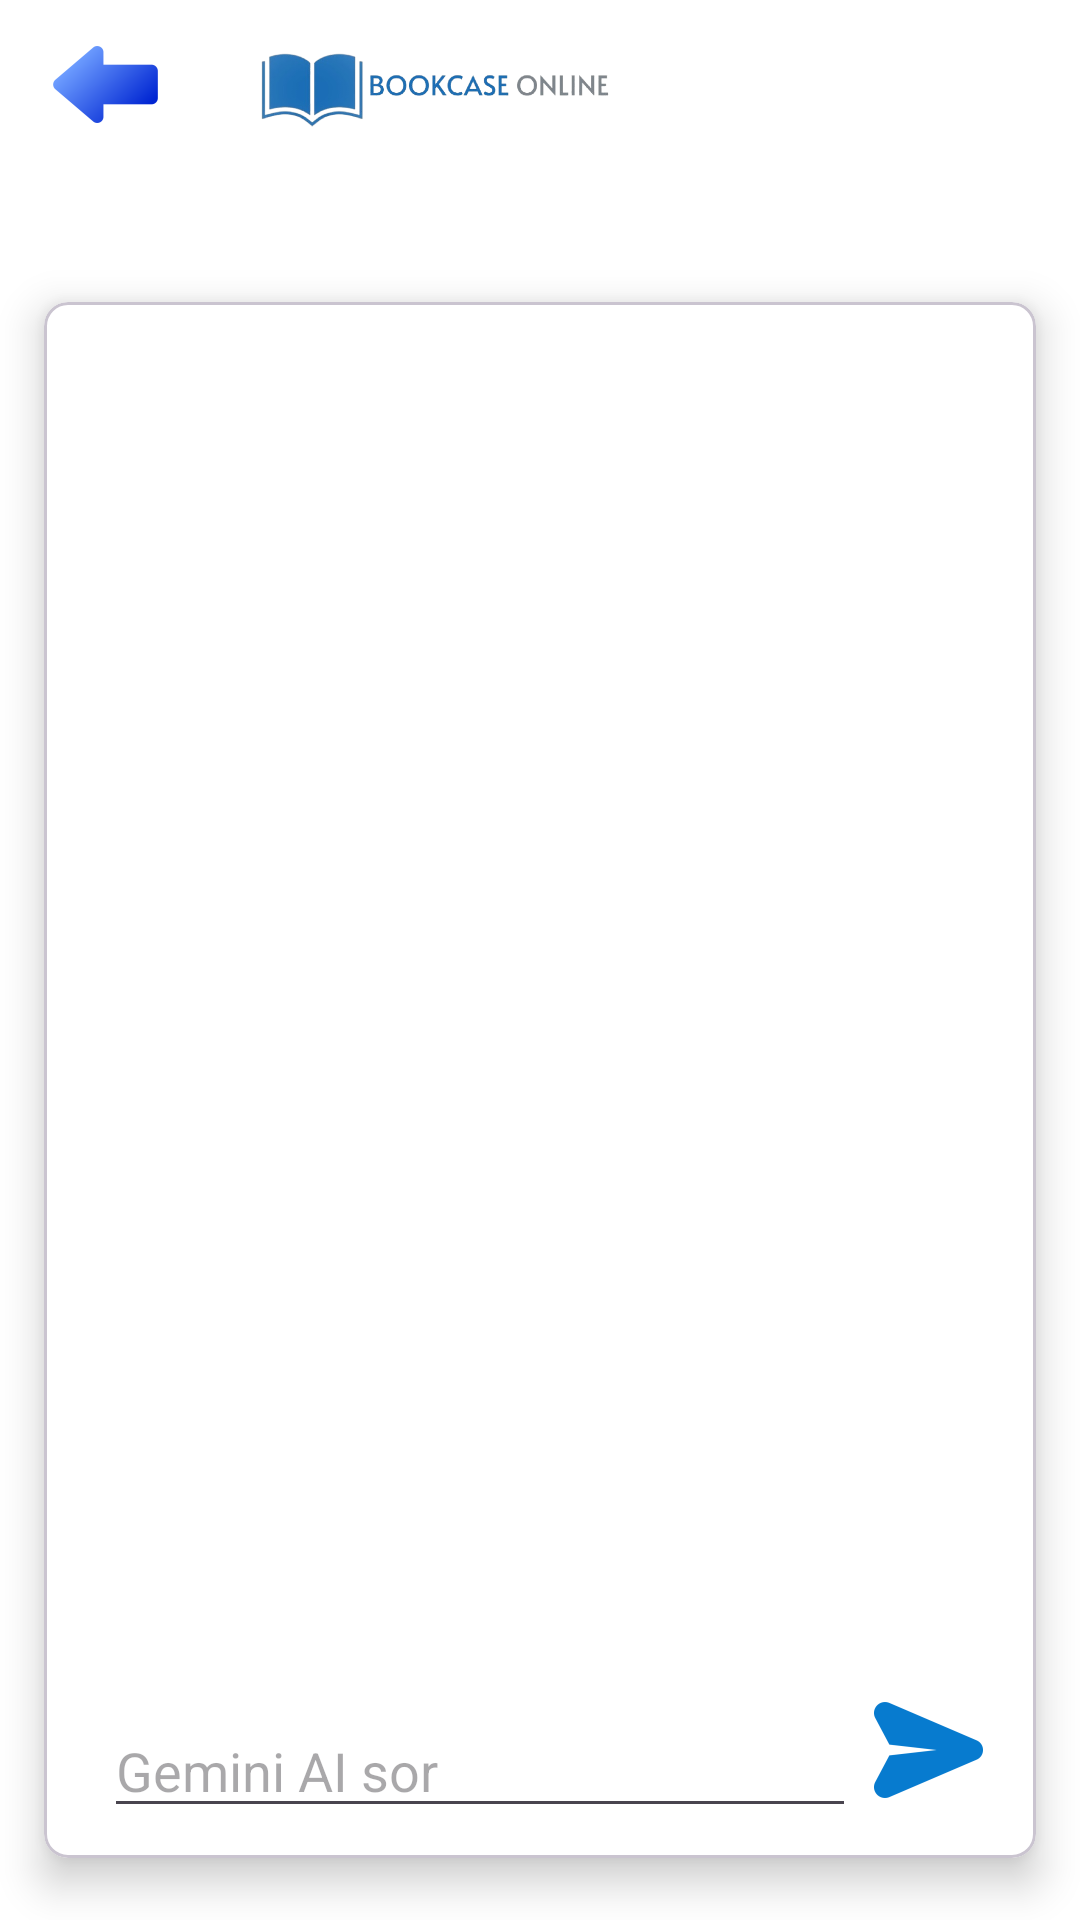

Where icons sit on this 1080×1920 app screen, as (x1, y1, x2, y2):
Dönüş İkonu: (53, 46, 158, 123)
send: (874, 1702, 983, 1798)
